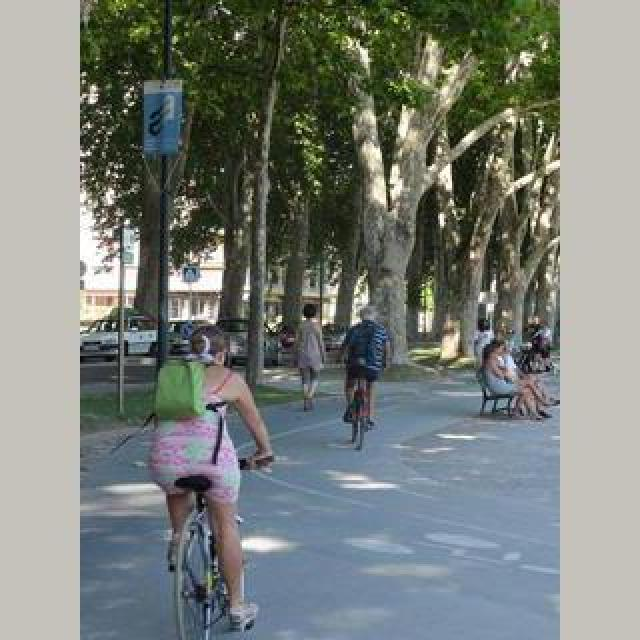Bus-Bike: (78, 308, 182, 362)
MC-Bike: (144, 314, 276, 630), (340, 306, 392, 430), (480, 338, 552, 418), (294, 306, 324, 412)
Person: (168, 472, 240, 638), (344, 372, 378, 450)
